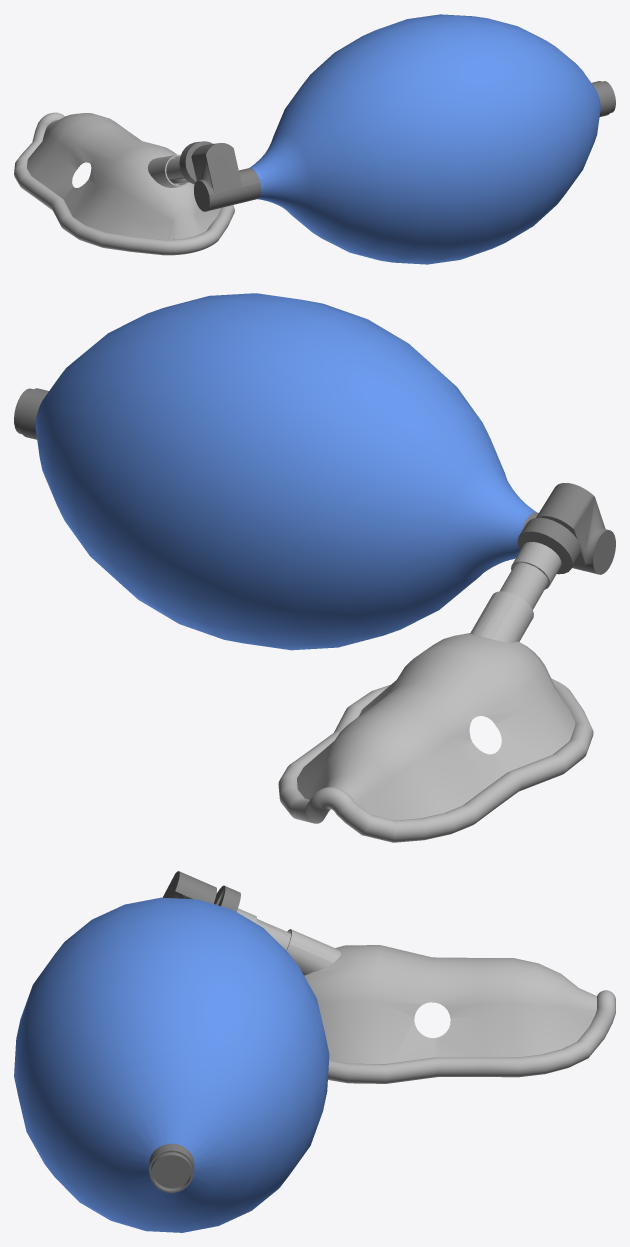
Rendered from Ambu.fbx.
The picture shows the model from 3 angles, top to bottom: view 1: azimuth 30°, elevation 25°; view 2: azimuth 150°, elevation 25°; view 3: azimuth 270°, elevation 25°; orthographic projection. The views are drawn at different scales.
Visible parts, largest first — view 1: Ambu; view 2: Ambu; view 3: Ambu.
Boxes of the visible parts, x1,y1,x2,y2 form: Ambu: [14, 14, 615, 264]; Ambu: [14, 293, 615, 842]; Ambu: [14, 871, 615, 1232].
Size of the model in its own units: 39.6 by 18.22 by 34.77.
Materials: 1 (1 with a texture image).
